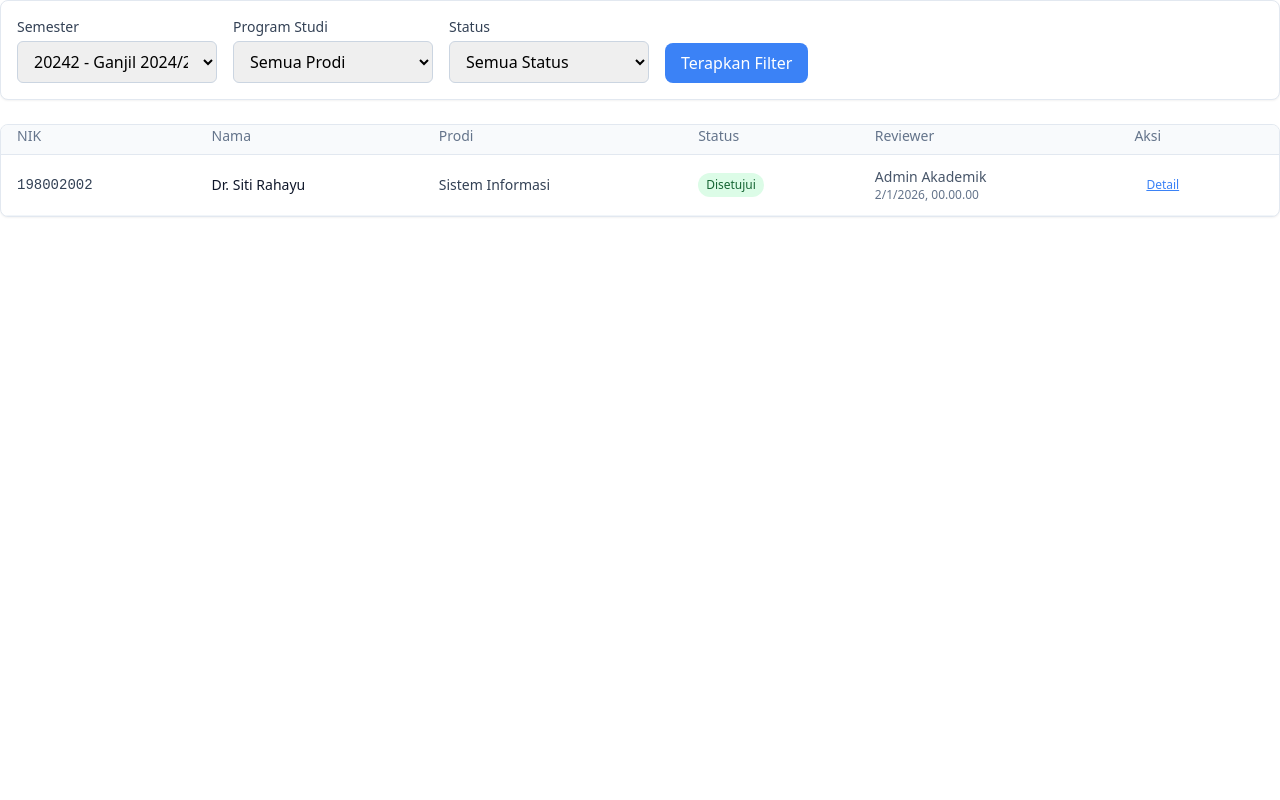
Test: AdminCourseReviewPage — Persetujuan MK Dosen › semua pilihan sudah direview (diterima) → tidak ada tombol Setujui/Tolak di detail
Expected: the text "Dr. Siti Rahayu" is shown, [196,154,423,216]
Click the button "Detail". click: (1163, 185)
box: [1134,173,1191,197]
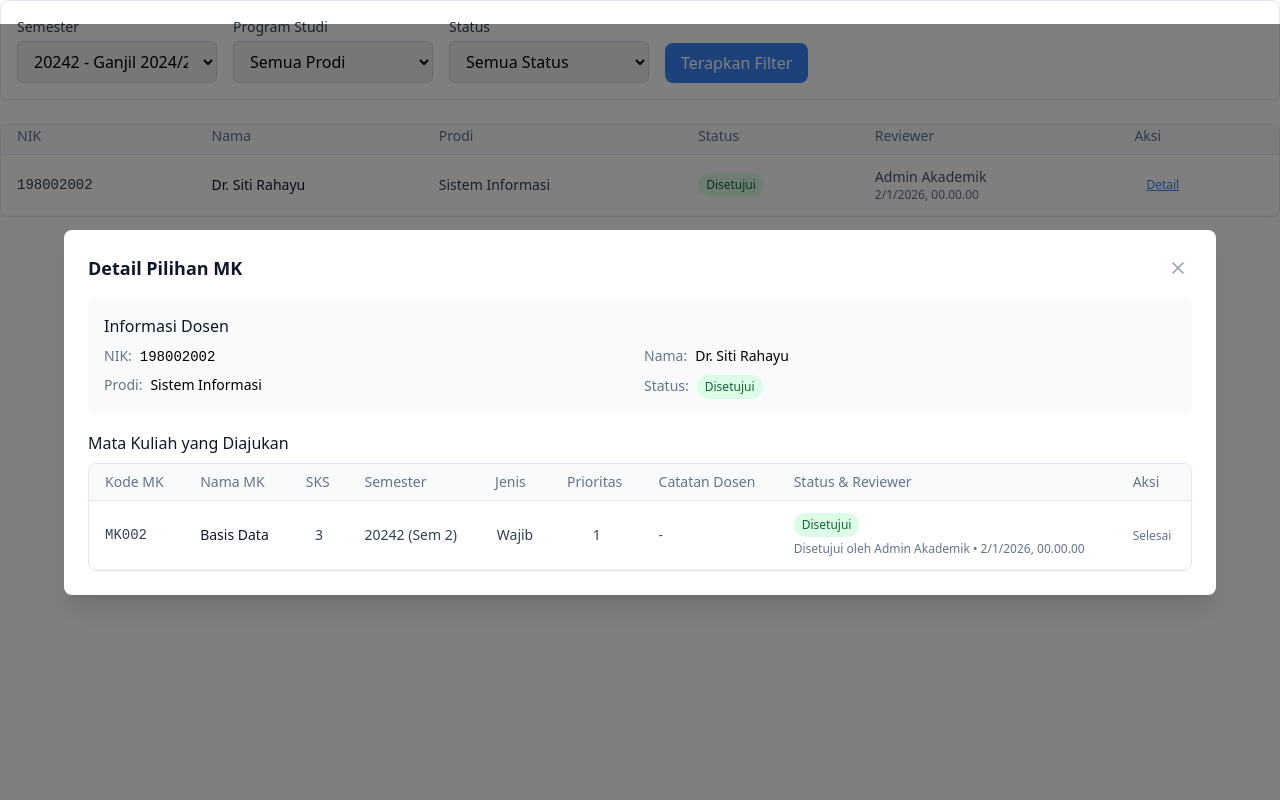
Now the text "Selesai" is shown, box [1133,526,1171,544]
